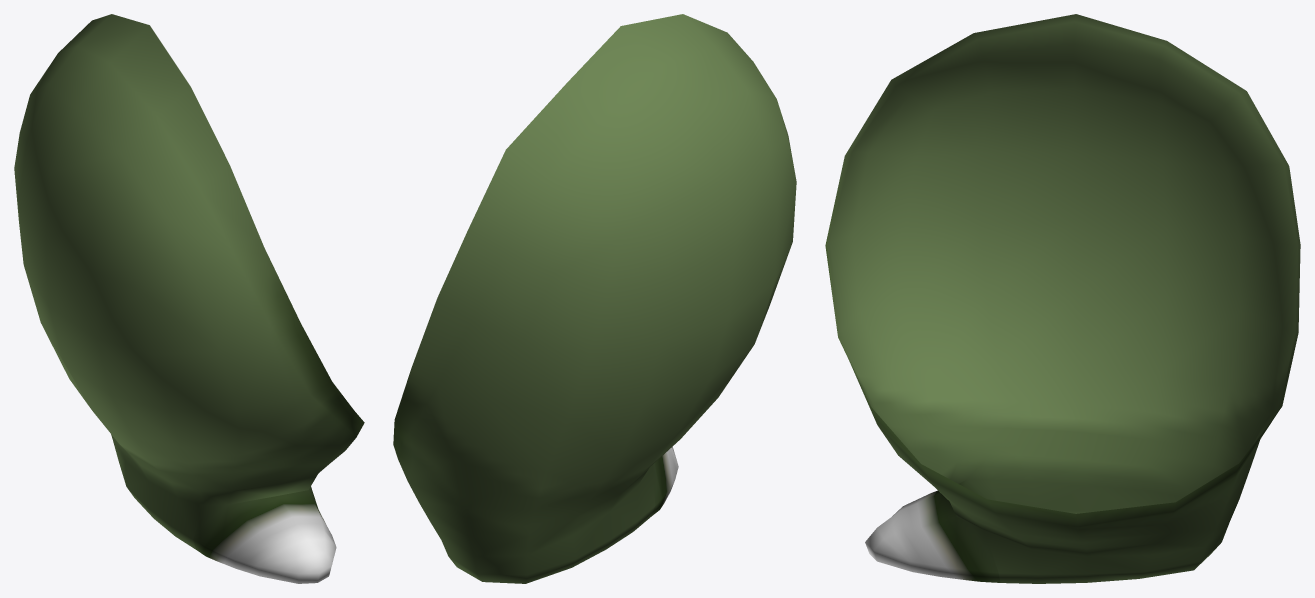
Rendered from BrazoDerecho.obj.
3 views of the same model, side by side, from view 1: azimuth 30°, elevation 25°; view 2: azimuth 150°, elevation 25°; view 3: azimuth 270°, elevation 25° (orthographic). The views are drawn at different scales.
Visible parts, largest first — view 1: Cubone; view 2: Cubone; view 3: Cubone.
Part boxes in pixels (left/top/right/bottom): Cubone: left=14, top=14, right=364, bottom=583; Cubone: left=393, top=14, right=796, bottom=583; Cubone: left=825, top=14, right=1300, bottom=583.
Bounding box in the file's own units: 192 × 328 × 279.
Materials: 1 (1 with a texture image).
